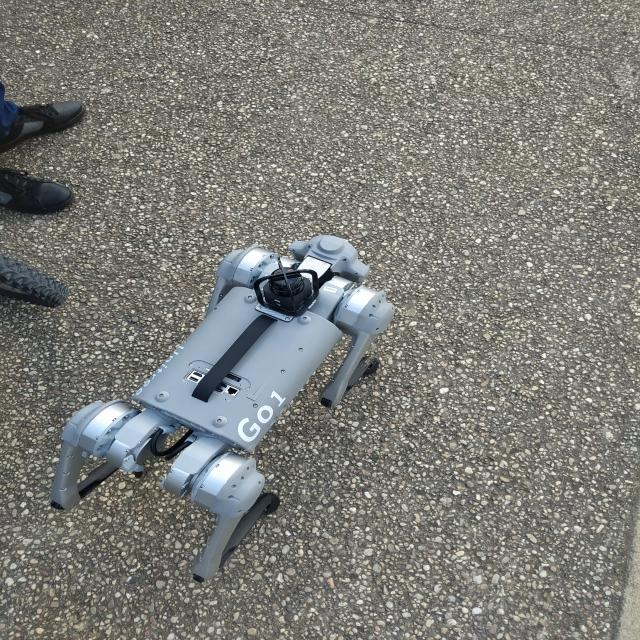unitree-go1-robot: (46, 220, 410, 594)
